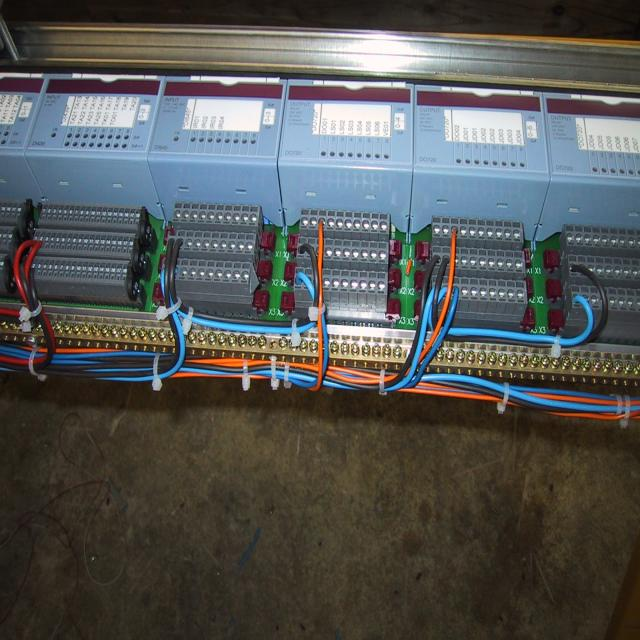SPS_System_Steuerungskomponente: (413, 87, 555, 180), (278, 79, 415, 172), (146, 76, 287, 162), (27, 74, 165, 156), (545, 92, 640, 188), (1, 73, 47, 155)
